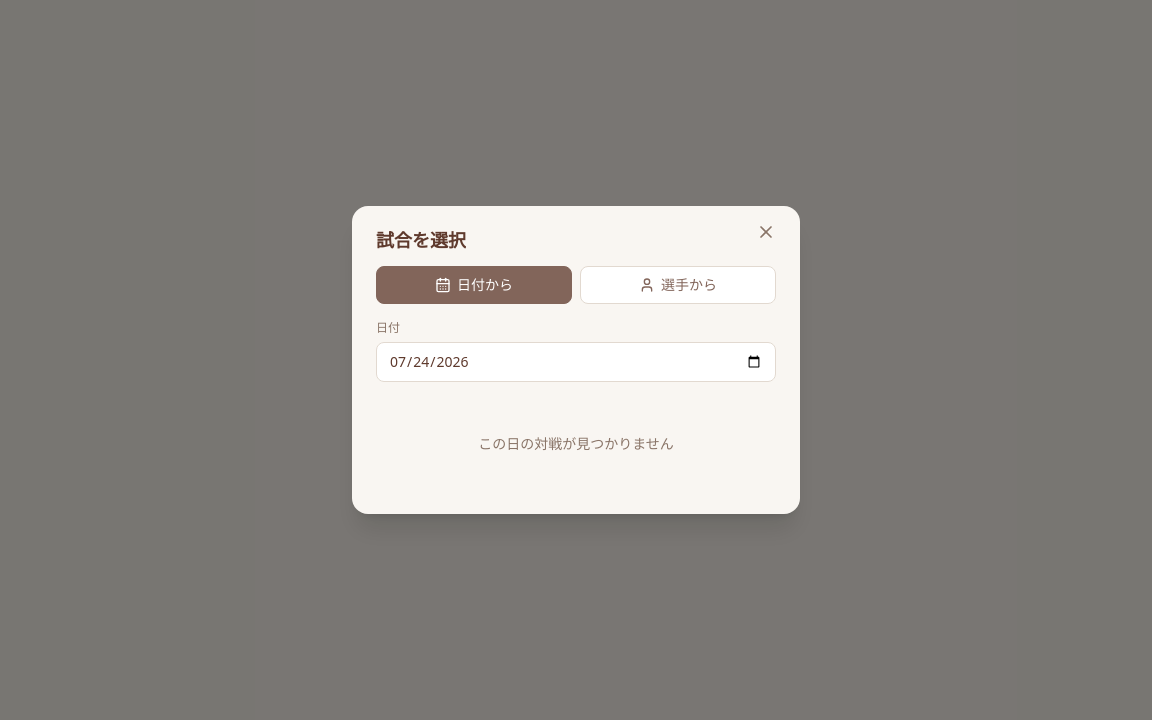
VideoRegisterModal - 選手起点（PlayerSourceSelect） › 選手起点でも組み合わせ（結果未入力の pairings）が候補に含まれる
Click the button "選手から" at coordinates (678, 285), box [580,266,776,304]
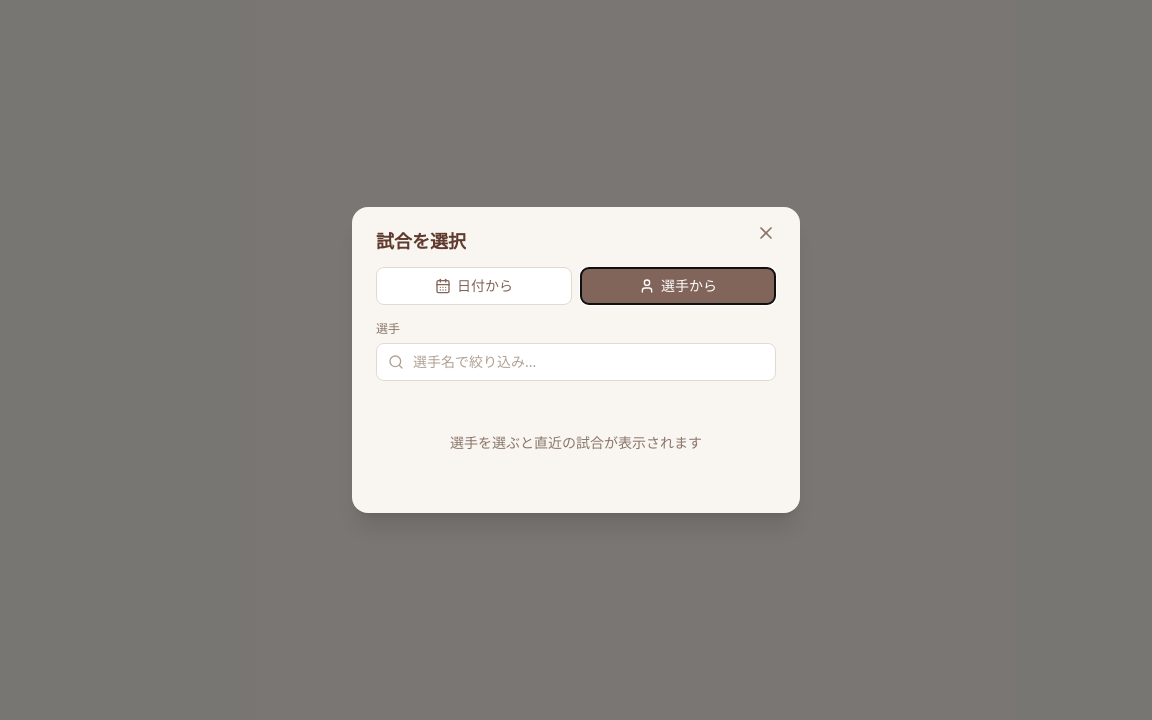
Type "山田" into the field with placeholder "選手名で絞り込み..." at coordinates (576, 362), box [376,343,776,381]
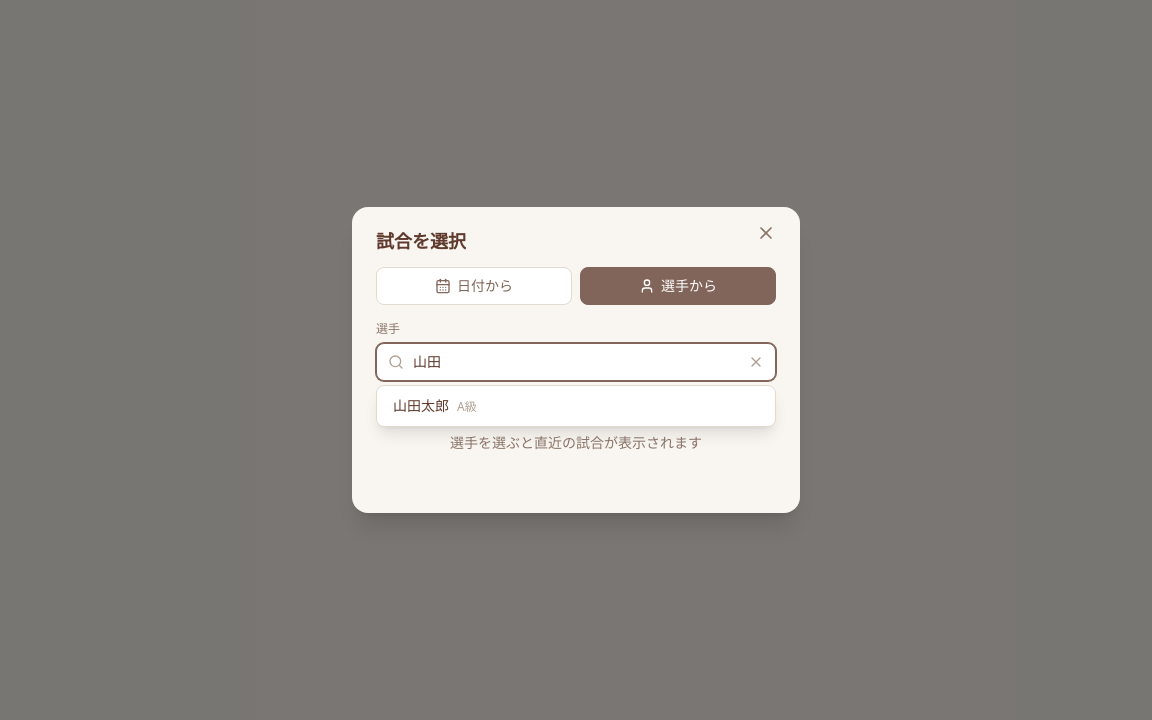
Click the button "山田太郎" at coordinates (421, 406), box [377,386,775,426]
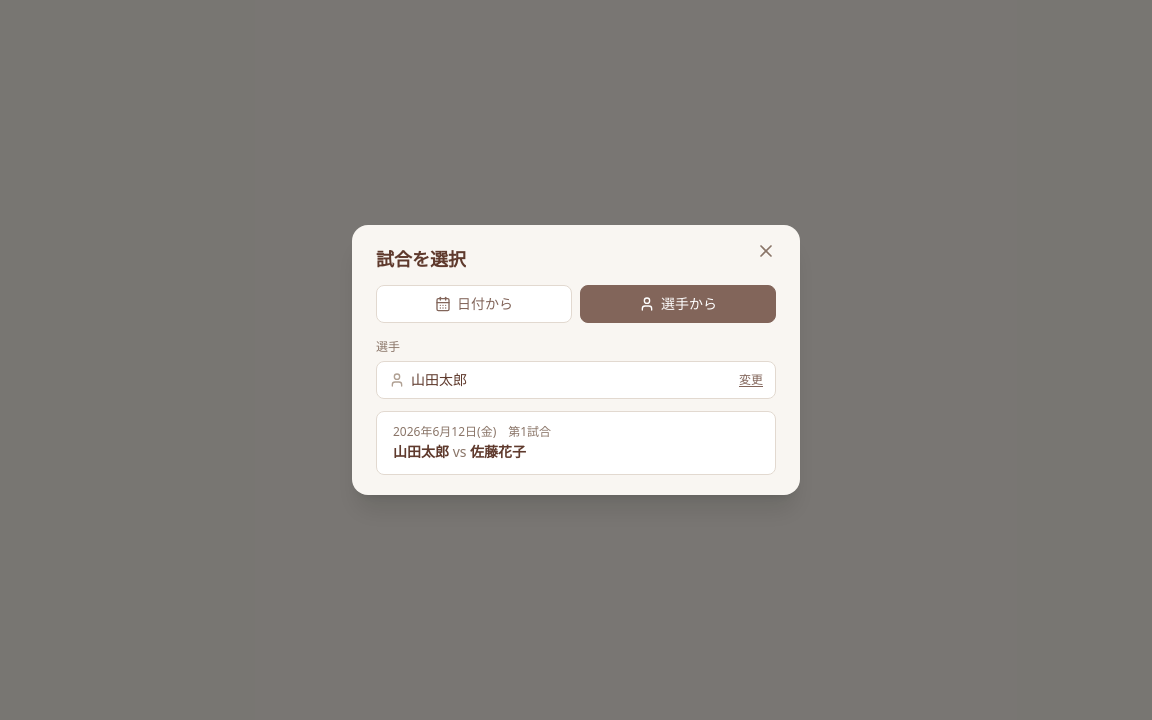
Check: the text "山田太郎 vs 佐藤花子" is shown, box [393,442,526,461]
Check: the button "2026年6月12日(金) 第1試合 山田太郎 vs 佐藤花子" is shown, box [376,411,776,475]
